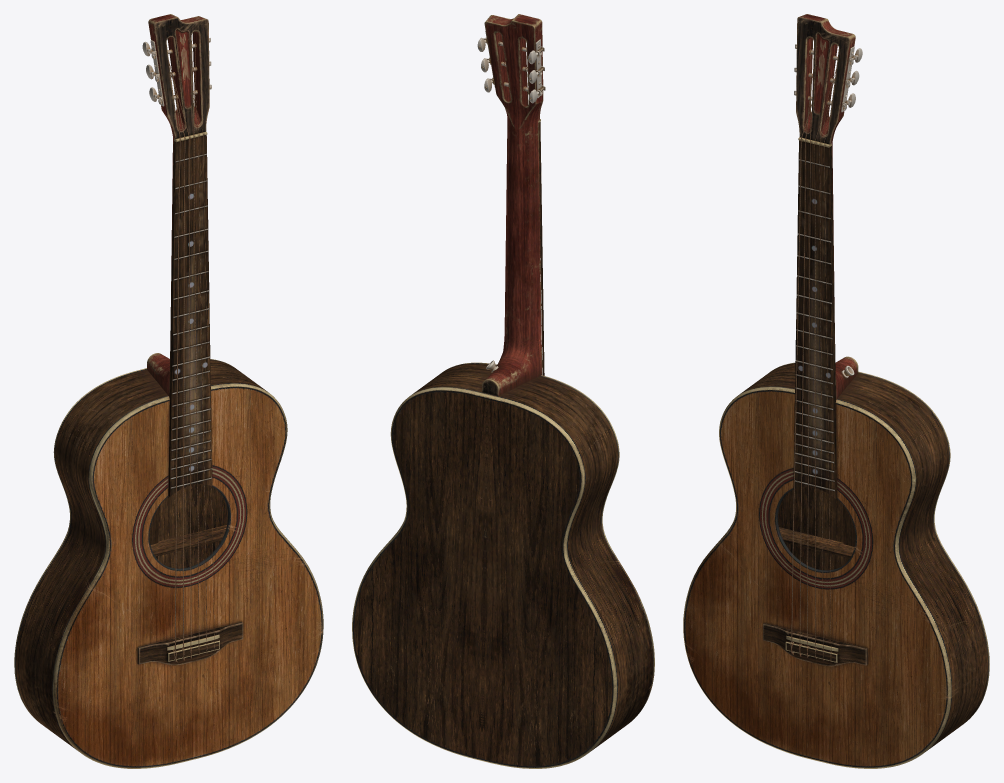
File: eguitar.glb
3 views of the same model, side by side, from view 1: azimuth 30°, elevation 25°; view 2: azimuth 150°, elevation 25°; view 3: azimuth 330°, elevation 25° (orthographic). The views are drawn at different scales.
Visible parts, largest first — view 1: Object_4, Object_6, Object_12, Object_8; view 2: Object_6, Object_4, Object_8; view 3: Object_4, Object_6, Object_12, Object_8.
Boxes of the visible parts, x1=… form: Object_4: x1=23, y1=21, x2=313, y2=768; Object_6: x1=14, y1=14, x2=323, y2=764; Object_12: x1=169, y1=46, x2=214, y2=662; Object_8: x1=148, y1=16, x2=211, y2=430; Object_6: x1=352, y1=14, x2=654, y2=767; Object_4: x1=360, y1=24, x2=642, y2=768; Object_8: x1=477, y1=15, x2=541, y2=309; Object_4: x1=695, y1=38, x2=980, y2=768; Object_6: x1=683, y1=14, x2=989, y2=742; Object_12: x1=790, y1=53, x2=836, y2=661; Object_8: x1=795, y1=30, x2=862, y2=433.
Bounding box in the file's own units: 0.3728 × 0.985 × 0.1167.
1 material, 1 textured.
